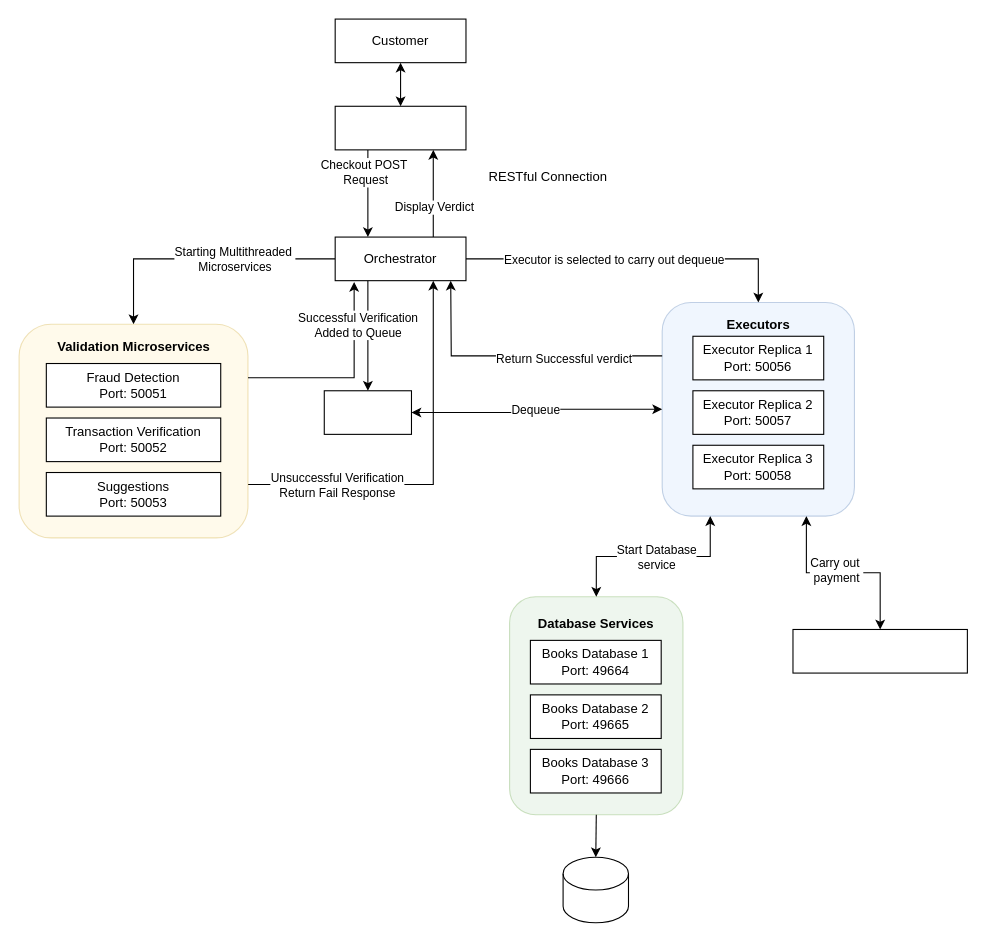
Image size: 986x942. Some labels were removed from this diagram. Here are the shapes that lost their labels. From the top down, the centre of each, then its label:
At (400,127): "Frontend".
At (367,412): "Order Queue Port: 50054".
At (879,650): "Payment System Port: 49667".
At (595,889): "Database".
